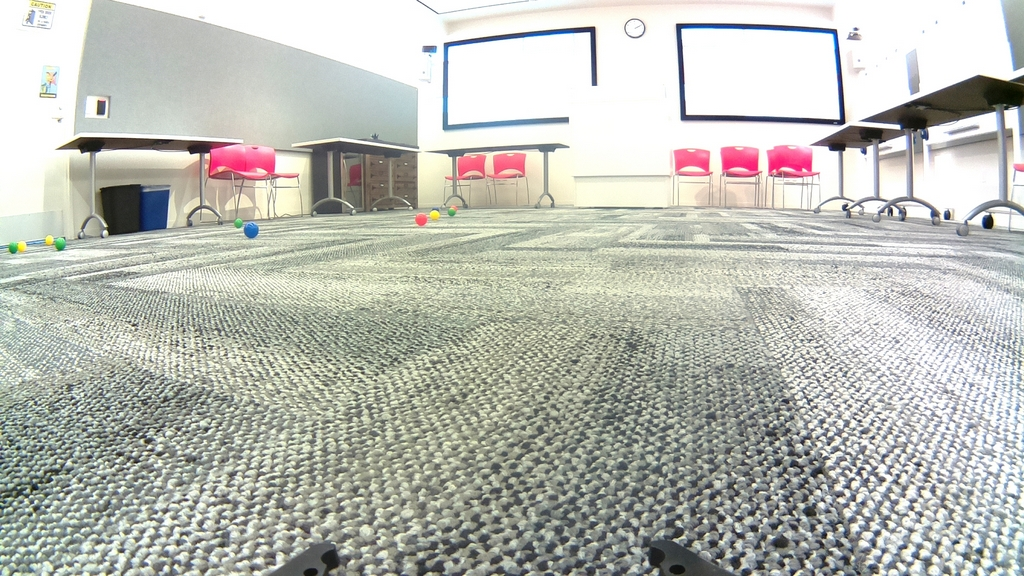ball: (46, 236, 53, 246)
